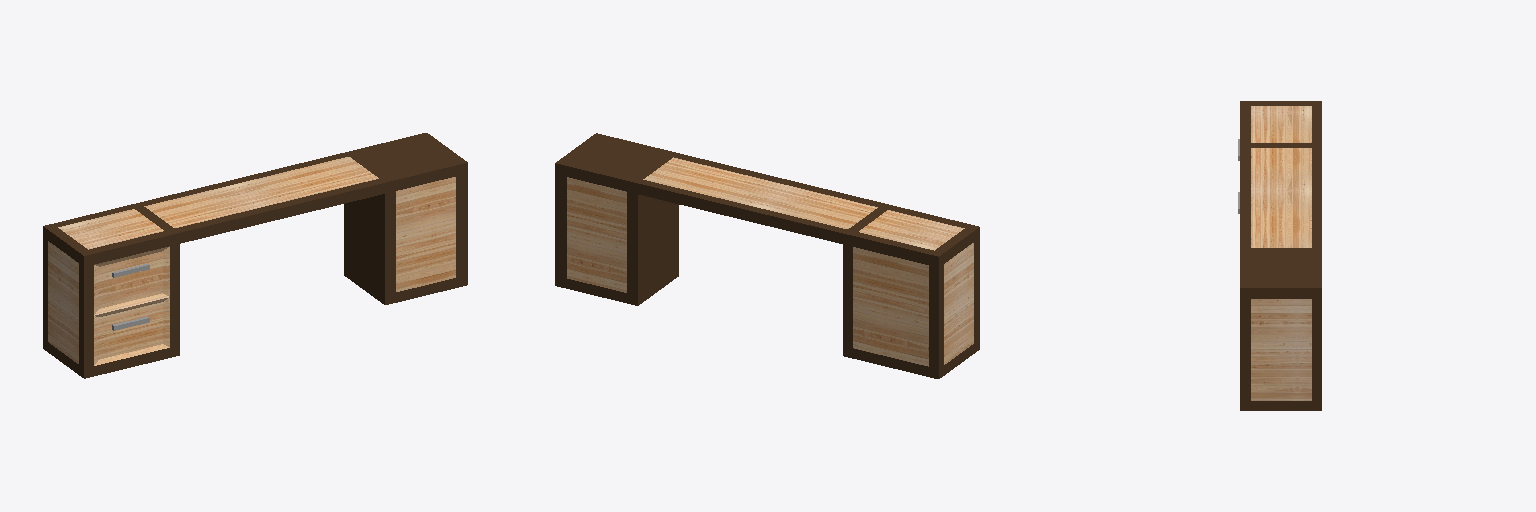
3 views of the same model, side by side, from view 1: azimuth 30°, elevation 25°; view 2: azimuth 150°, elevation 25°; view 3: azimuth 270°, elevation 25° (orthographic).
Visible parts, largest first — view 1: izquierda_playa; view 2: izquierda_playa; view 3: izquierda_playa.
Boxes of the visible parts, box(x1,y1,x2,y2) form: izquierda_playa: box(43, 133, 467, 378); izquierda_playa: box(555, 133, 979, 378); izquierda_playa: box(1238, 101, 1321, 410).
Bounding box in the file's own units: 13.92 × 4.26 × 2.64.
Materials: 1 (1 with a texture image).